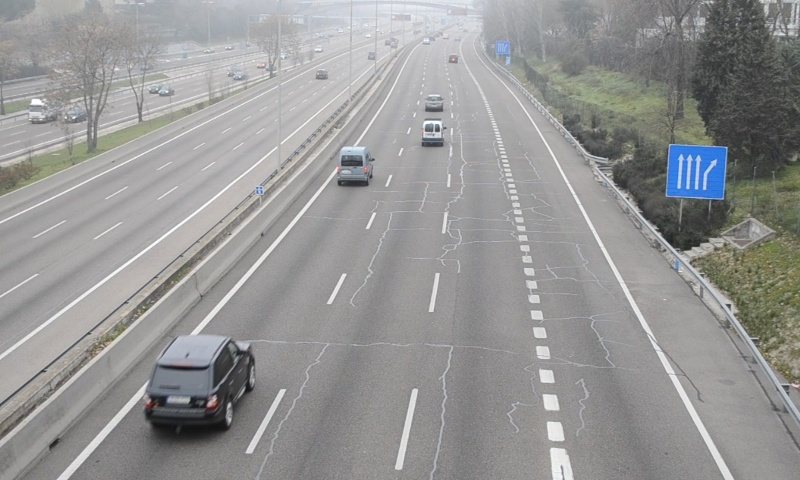car: (144, 336, 252, 428), (424, 94, 444, 112)
van: (337, 146, 374, 184), (421, 118, 444, 146)
